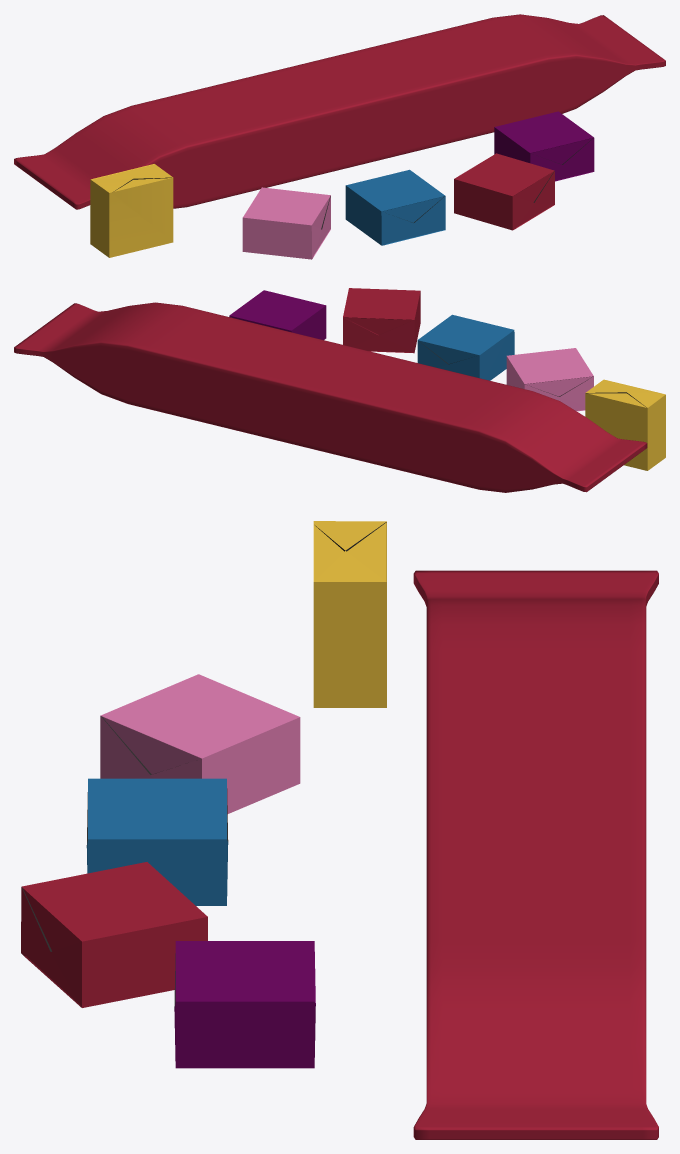
File: b15e810d-0c61-4003-a8bf-531356053acd.glb
3 renders of one model, top to bottom at view 1: azimuth 30°, elevation 25°; view 2: azimuth 150°, elevation 25°; view 3: azimuth 270°, elevation 25°, orthographic. The views are drawn at different scales.
Parts seen in each view (by area): view 1: Box001, Box006, Box004, Box003, Box002, Box005; view 2: Box001, Box006, Box004, Box003, Box002, Box005; view 3: Box001, Box004, Box002, Box005, Box003, Box006.
Boxes of the visible parts, <box> form: Box001: <box>14,14,665,209</box>; Box006: <box>90,164,173,257</box>; Box004: <box>454,153,554,230</box>; Box003: <box>345,169,445,245</box>; Box002: <box>242,187,330,259</box>; Box005: <box>494,111,594,181</box>; Box001: <box>14,302,647,492</box>; Box006: <box>585,379,665,470</box>; Box004: <box>343,288,420,353</box>; Box003: <box>417,314,514,380</box>; Box002: <box>506,348,593,411</box>; Box005: <box>229,290,326,339</box>; Box001: <box>413,570,658,1139</box>; Box004: <box>21,862,207,1007</box>; Box002: <box>100,674,300,813</box>; Box005: <box>174,941,315,1068</box>; Box003: <box>86,778,228,905</box>; Box006: <box>313,521,386,707</box>.
Size of the model in its own units: 129 by 13.8 by 62.27.
